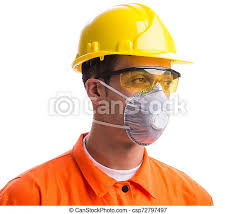Helmet: (60, 5, 217, 78)
Mask: (112, 88, 176, 145)
